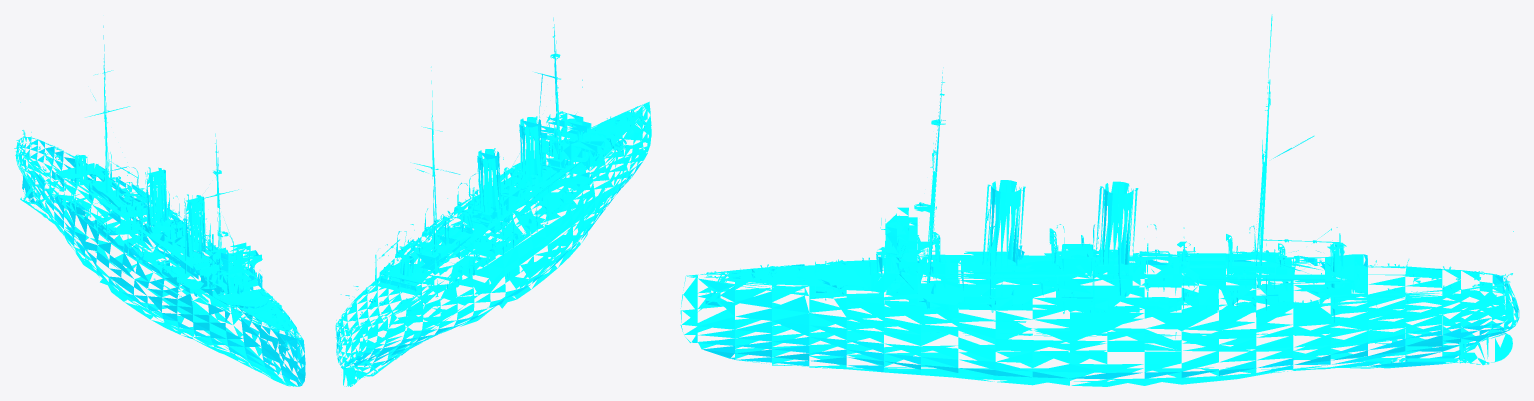
The model's file is Gelderland.glb.
3 renders of one model, left to right at view 1: azimuth 30°, elevation 25°; view 2: azimuth 150°, elevation 25°; view 3: azimuth 270°, elevation 25°, orthographic. The views are drawn at different scales.
Bounding box in the file's own units: 0.9846 × 2.94 × 6.31.
